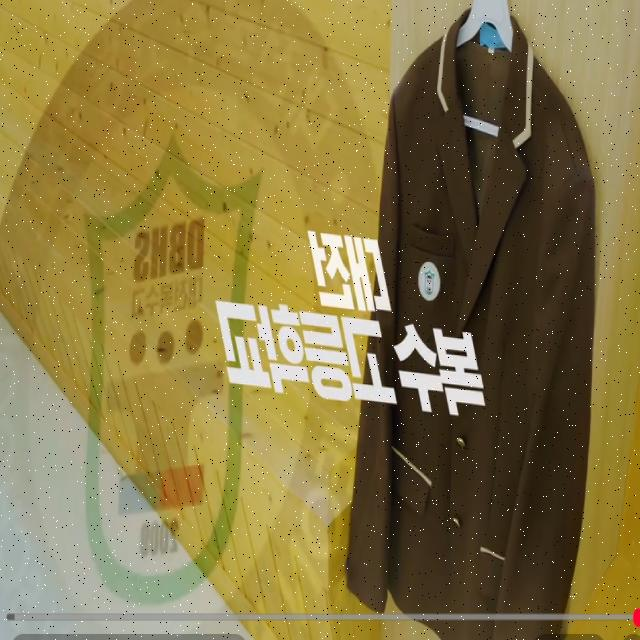logo: (0, 5, 395, 640), (416, 258, 443, 306)
